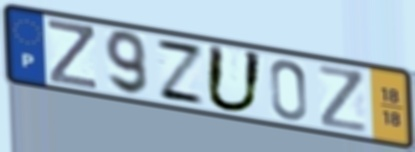0: (267, 58, 310, 123)
9: (101, 29, 151, 97)
U: (203, 42, 266, 115)
Z: (46, 16, 100, 92), (316, 63, 370, 136), (154, 36, 208, 109)
